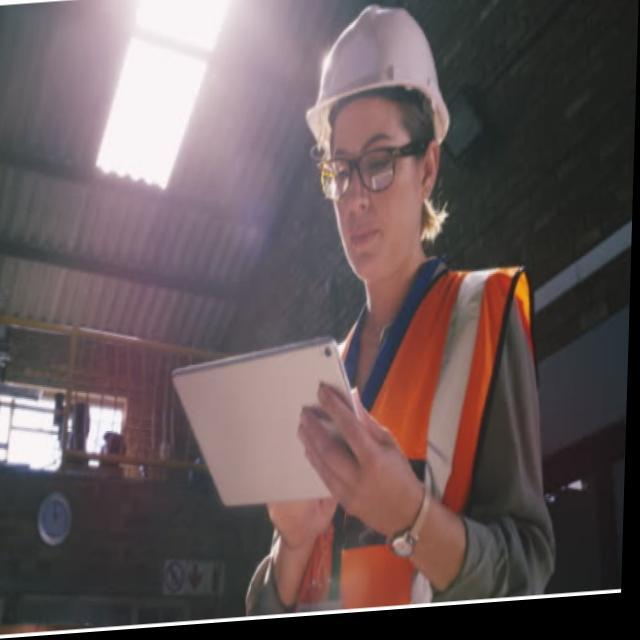helmet: (299, 0, 455, 279)
vest: (270, 251, 540, 618)
